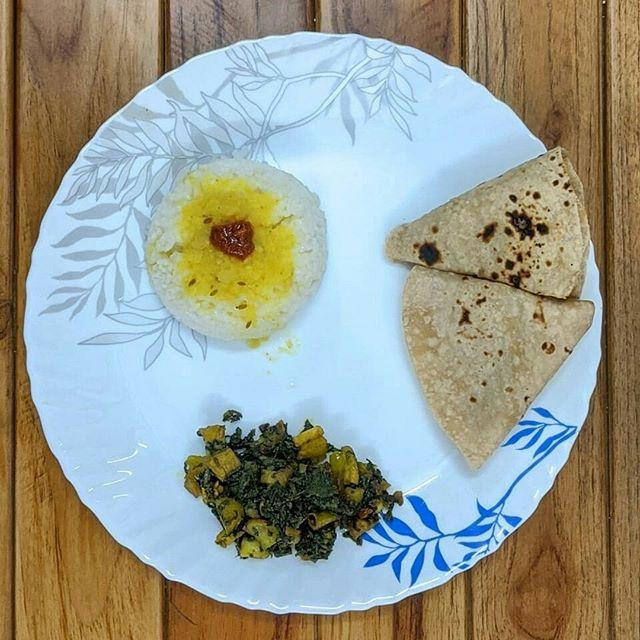Roti: (386, 166, 602, 453)
White Rice: (136, 162, 342, 354)
